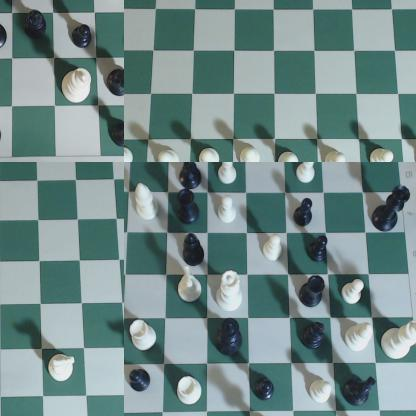black-bishop: (182, 232, 207, 271), (300, 324, 328, 356), (23, 10, 50, 42)
black-king: (218, 319, 245, 359)
black-knight: (344, 375, 379, 406), (176, 163, 202, 190), (107, 62, 124, 100), (1, 17, 13, 53)
black-pawn: (125, 366, 159, 400), (249, 372, 276, 405), (293, 199, 319, 233), (73, 20, 94, 53), (114, 124, 124, 150)
black-queen: (374, 183, 415, 237)
black-rook: (177, 188, 206, 228), (297, 275, 327, 311)
white-bishop: (131, 182, 164, 225), (342, 323, 376, 356)
white-king: (377, 314, 416, 363), (62, 70, 92, 104)
white-knight: (45, 350, 81, 386), (178, 263, 204, 308)
white-pawn: (341, 278, 369, 308), (295, 163, 322, 189), (309, 380, 334, 408), (214, 199, 237, 229), (217, 163, 244, 188), (261, 237, 283, 266), (196, 142, 226, 162), (323, 141, 351, 162), (238, 141, 264, 162), (274, 145, 306, 162), (369, 143, 397, 162), (154, 147, 183, 162), (125, 139, 140, 162), (104, 1, 124, 13)
white-queen: (215, 268, 245, 315)
white-rook: (130, 319, 157, 353), (175, 375, 204, 406)
